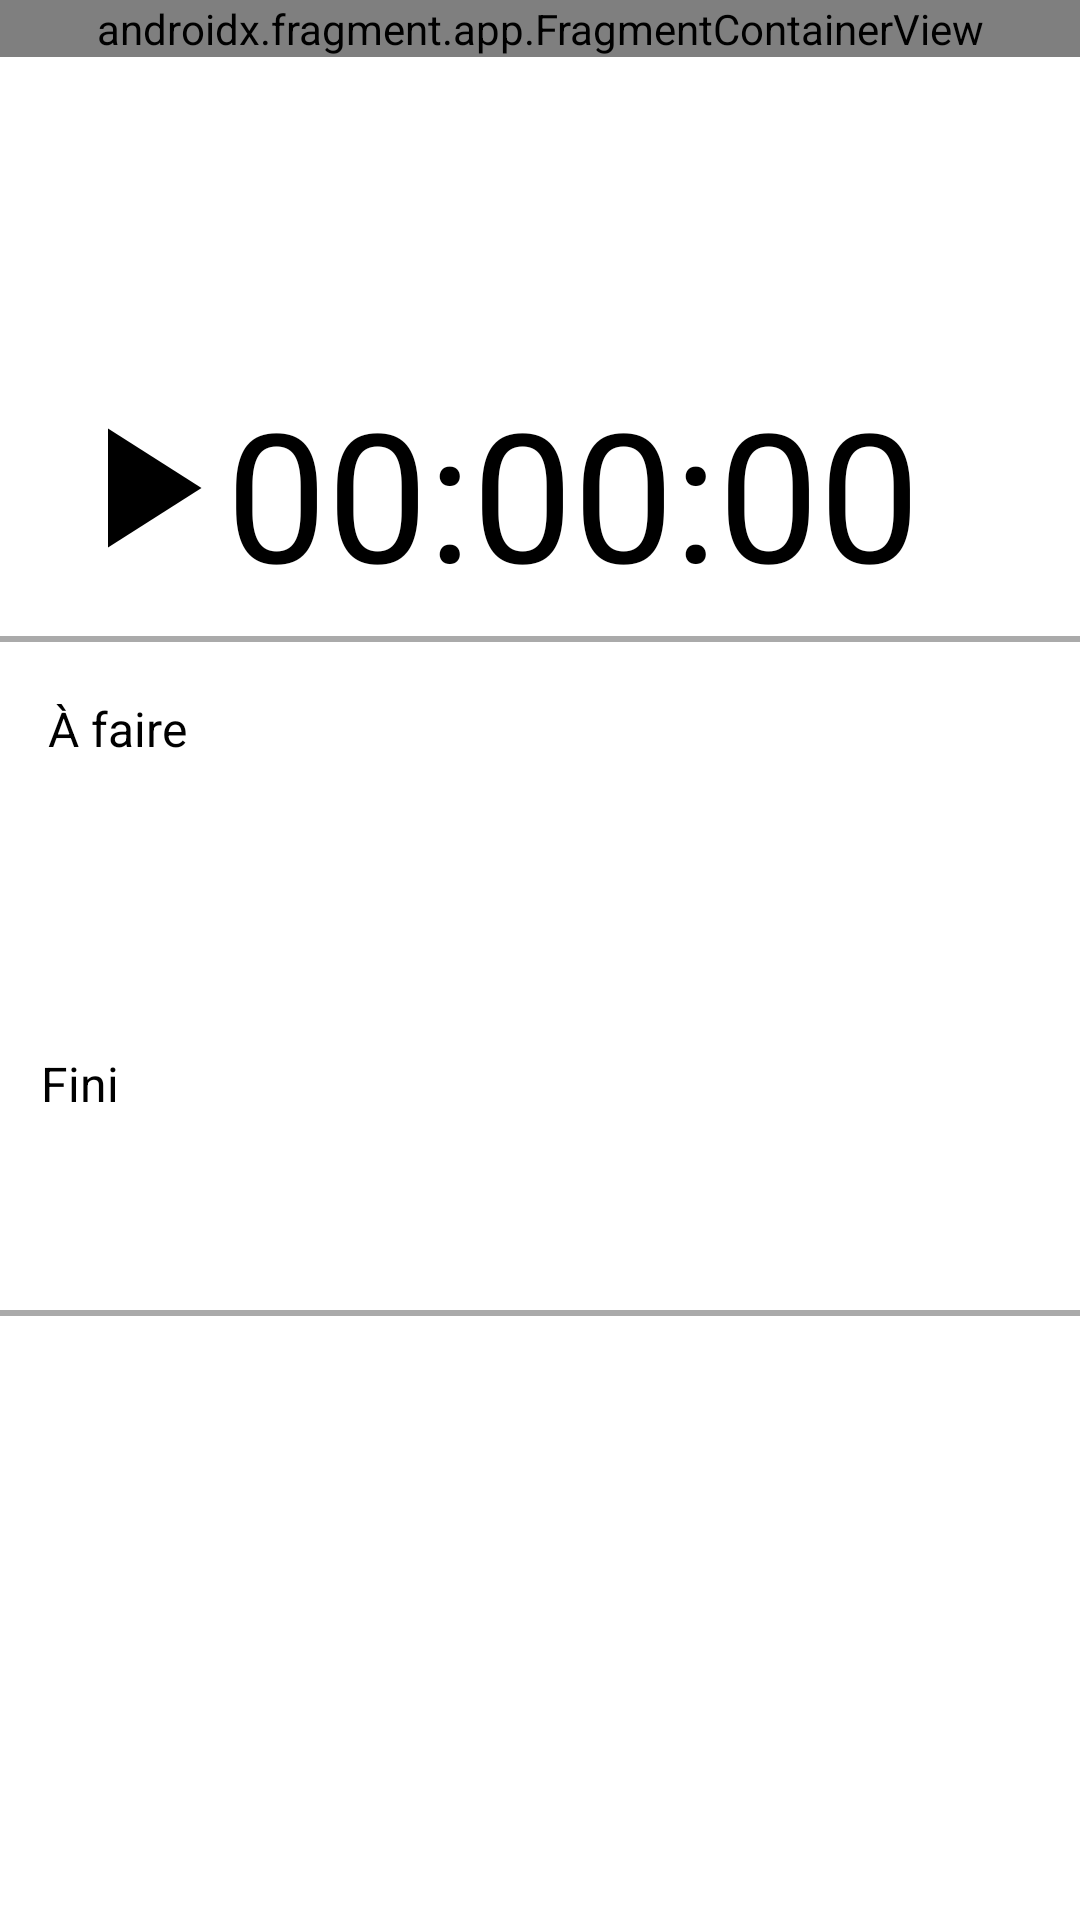

Icon bounding boxes for this 1080px x 1920px phone screenshot, format {"x1": x1, "y1": y1, "x2": x2, "y2": y2}:
play arrow: {"x1": 108, "y1": 428, "x2": 201, "y2": 548}
